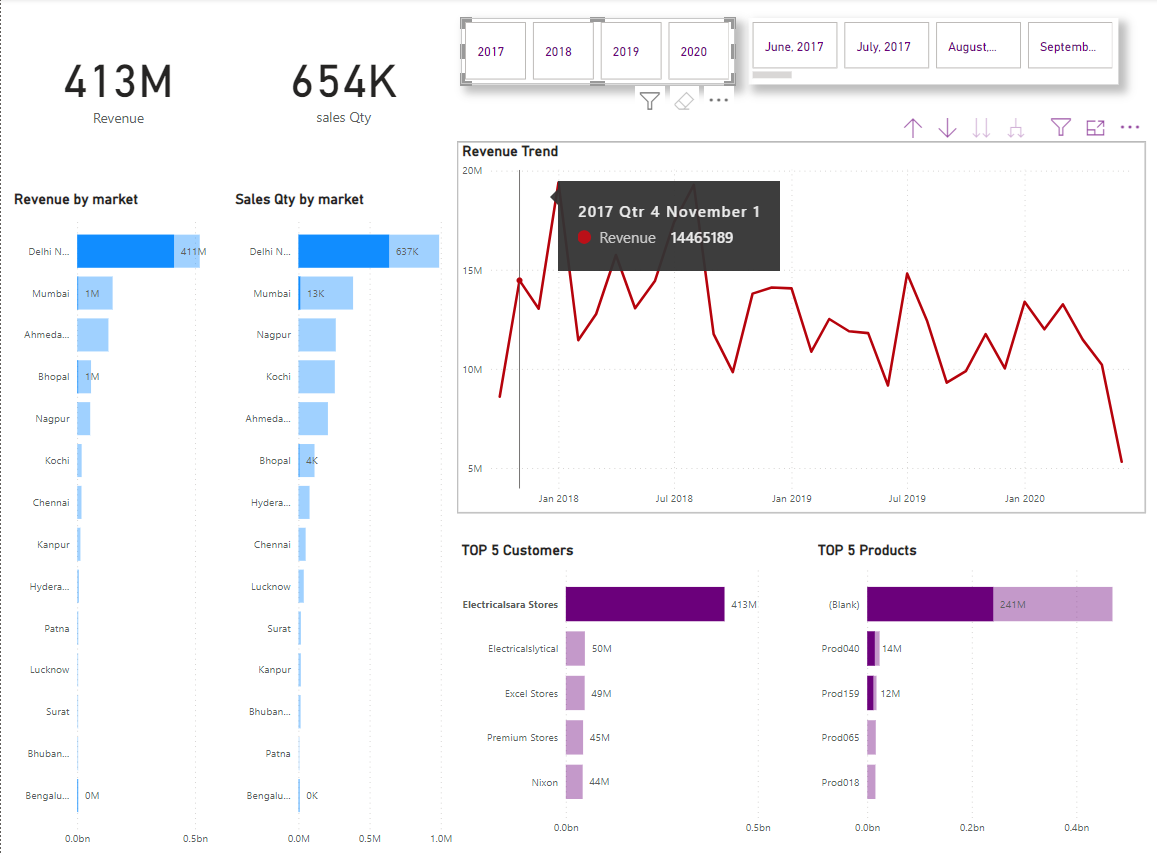

The page's visual inventory and layout, read from the dashboard file:
{"tool":"powerbi","page":{"name":"Page 1","canvas":[1350,1000],"ordinal":0},"visuals":[{"type":"card","fields":{"Values":["BaseMeasures.Revenue"]},"box":[0,0,274.4,201.7],"z":0},{"type":"card","fields":{"Values":["BaseMeasures.sales Qty"]},"box":[263.4,0,275,201.2],"z":1000},{"type":"barChart","title":"Revenue by market","fields":{"Y":["BaseMeasures.Revenue"],"Category":["sales markets.markets_name"]},"box":[10.2,224.8,264.2,775.2],"z":2000},{"type":"barChart","title":"Sales Qty by market","fields":{"Y":["BaseMeasures.sales Qty"],"Category":["sales markets.markets_name"]},"box":[268.6,224.8,264.2,775.2],"z":3000},{"type":"advancedSlicerVisual","title":"month","fields":{"Values":["sales date.cy_date"]},"box":[873,23.4,432.1,77.4],"z":4000},{"type":"advancedSlicerVisual","fields":{"Values":["sales date.year"]},"box":[537.2,23.4,319.7,77.4],"z":5000},{"type":"barChart","title":"TOP 5 Customers","fields":{"Y":["BaseMeasures.Revenue"],"Category":["sales customers.custmer_name"]},"box":[532.8,635,416.1,351.8],"z":5001},{"type":"barChart","title":"TOP 5 Products","fields":{"Y":["BaseMeasures.Revenue"],"Category":["sales products.product_code"]},"box":[948.9,635,388.3,351.8],"z":5002},{"type":"lineChart","title":"Revenue Trend","fields":{"Y":["BaseMeasures.Revenue"],"Category":["sales date.cy_date.Variation.Date Hierarchy.Year","sales date.cy_date.Variation.Date Hierarchy.Quarter","sales date.cy_date.Variation.Date Hierarchy.Month","sales date.cy_date.Variation.Date Hierarchy.Day"]},"box":[532.8,167.9,804.4,433.6],"z":5003}]}

Visuals, with their boxes in screenshot pixels (x1, y1, x2, y2), scaled from the page's 1350x1000 canvas onto the 1157x853 screenshot:
card - BaseMeasures.Revenue: <region>0, 0, 235, 172</region>
card - BaseMeasures.sales Qty: <region>226, 0, 461, 172</region>
"Revenue by market" barChart: <region>9, 192, 235, 852</region>
"Sales Qty by market" barChart: <region>230, 192, 457, 852</region>
"month" advancedSlicerVisual: <region>748, 20, 1119, 86</region>
advancedSlicerVisual - sales date.year: <region>460, 20, 734, 86</region>
"TOP 5 Customers" barChart: <region>457, 542, 813, 842</region>
"TOP 5 Products" barChart: <region>813, 542, 1146, 842</region>
"Revenue Trend" lineChart: <region>457, 143, 1146, 513</region>
